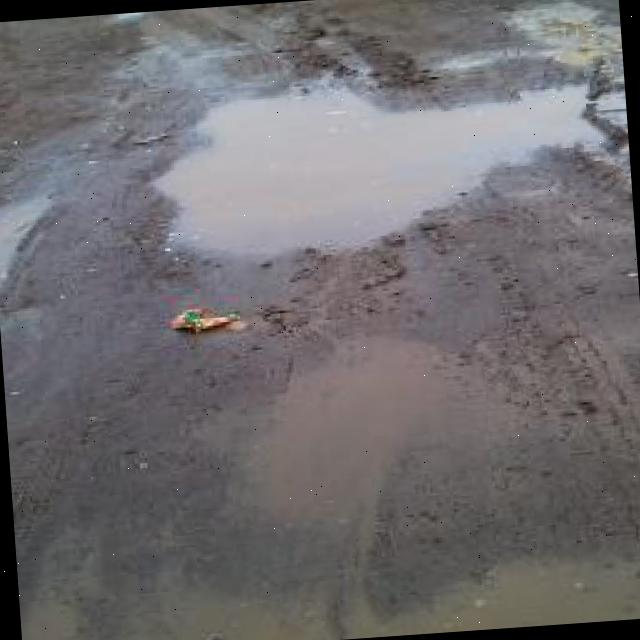stagnation: (147, 65, 621, 272)
